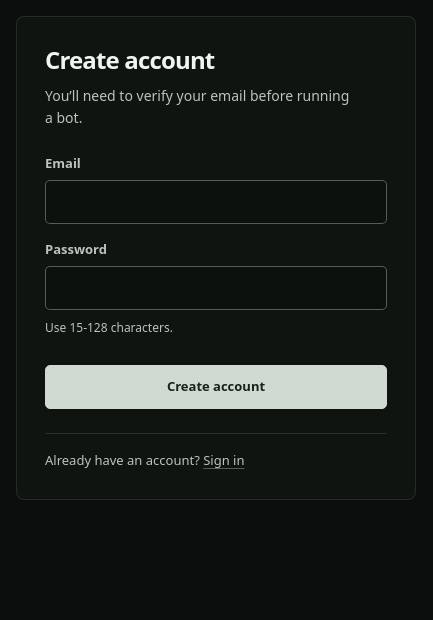
credential failure presentation › handles a 409 outcome and clears the password
Type "first@example.com" into the field labelled "Email" at coordinates (216, 202), box [45,180,387,224]
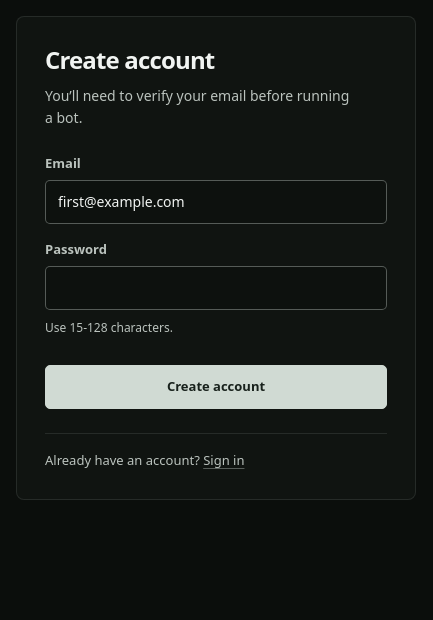
Type "correct password for testing" into the password field labelled "Password" at coordinates (216, 288), box [45,266,387,310]
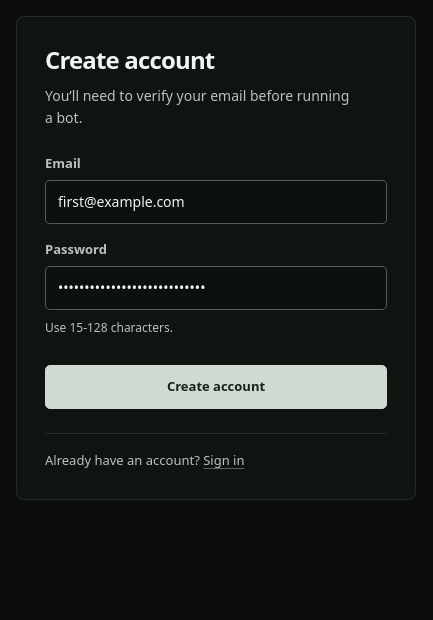
Click the button "Create account" at coordinates (216, 387), box [45,365,387,409]
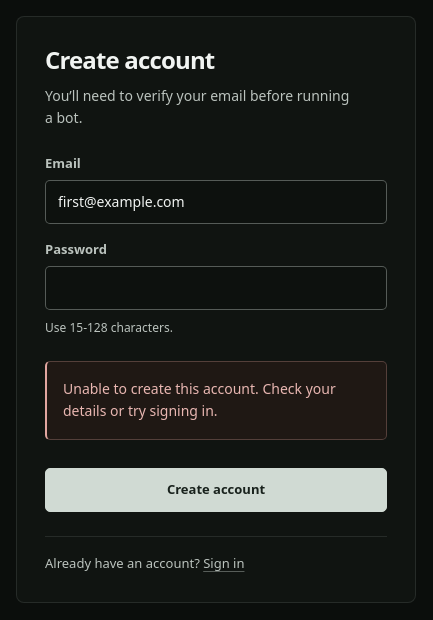
Check: the button is enabled, box [45,468,387,512]
Check: the message reads "Unable to create this account. Check your details or try signing in.", box [63,379,336,420]
Check: the password field labelled "Password" is empty, box [45,266,387,310]
